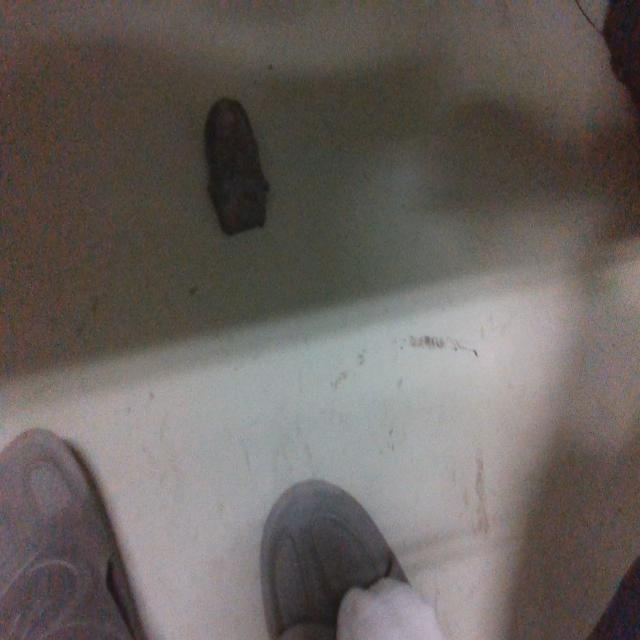stone: (202, 90, 274, 235)
